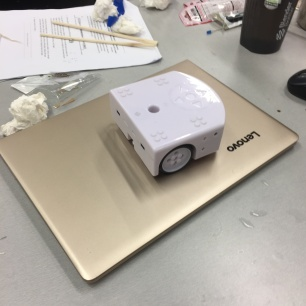thymio: (105, 64, 234, 181)
